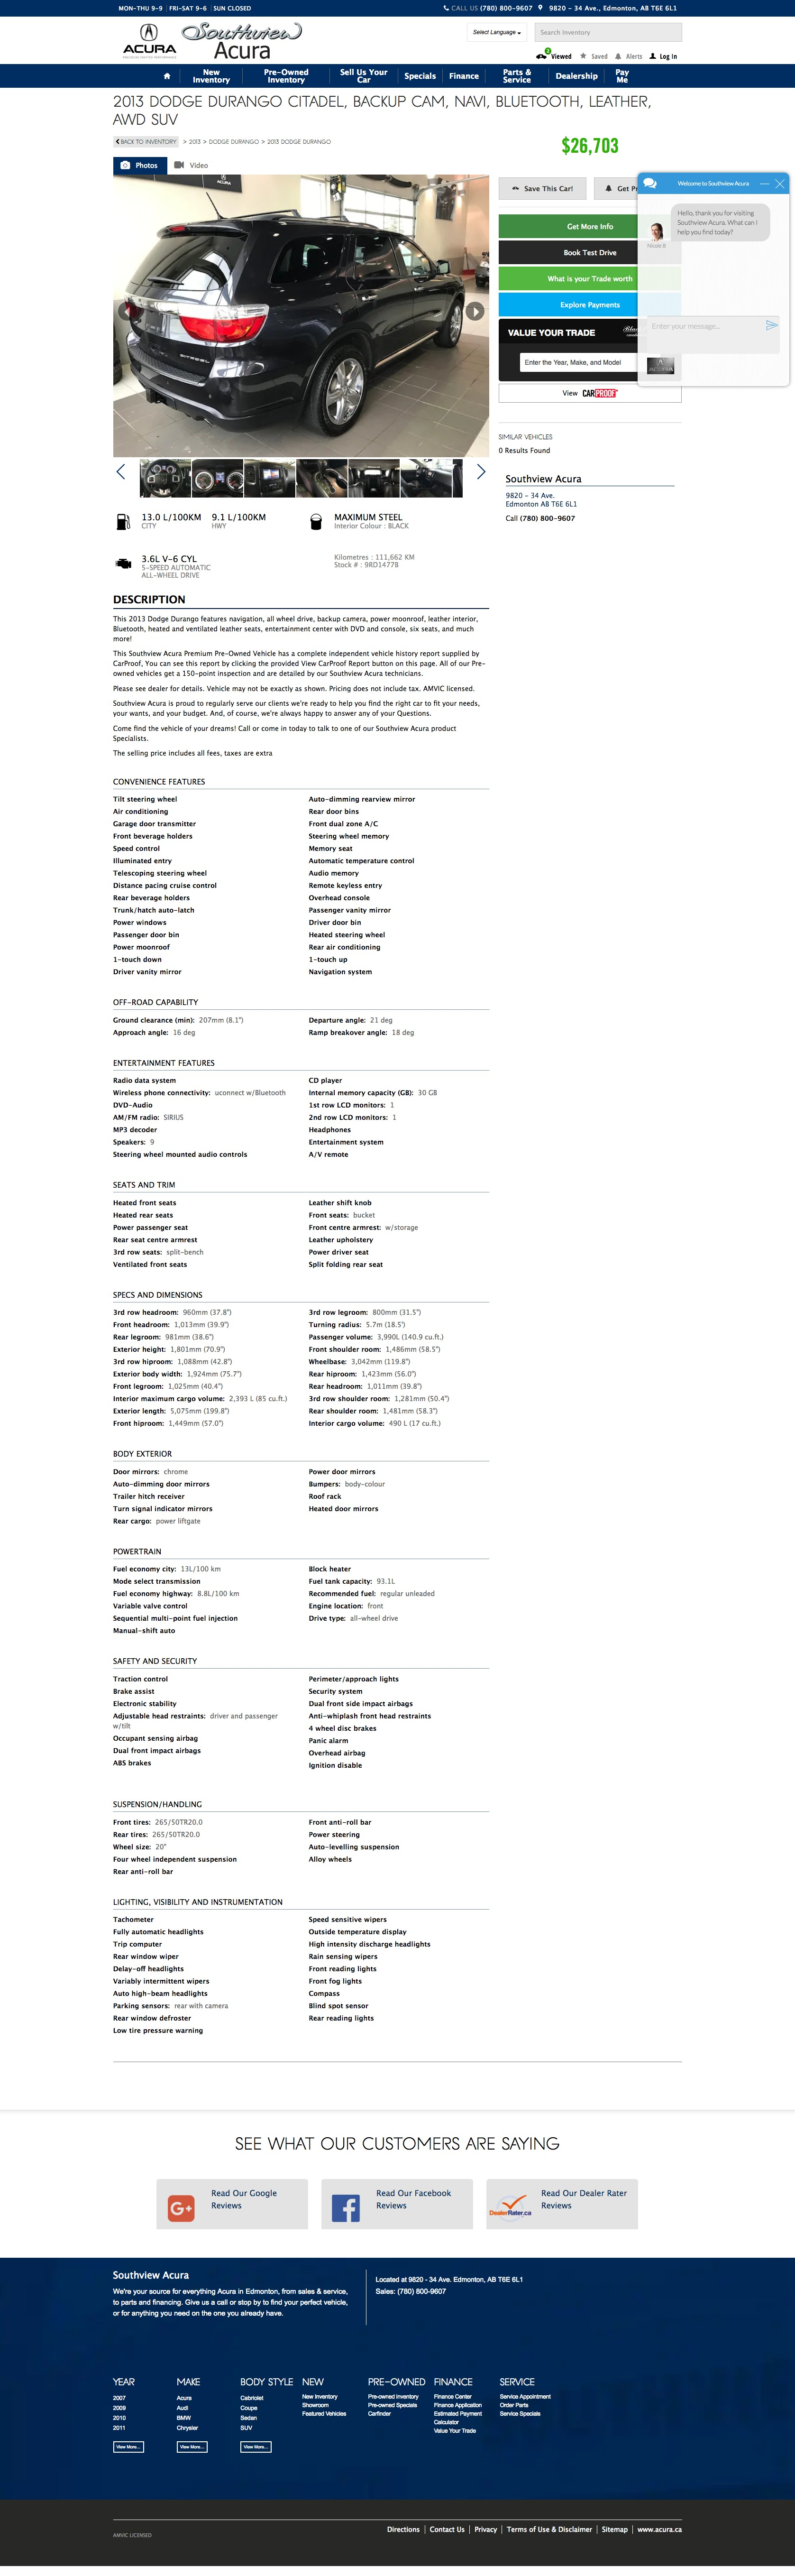car: (476, 463, 486, 480)
